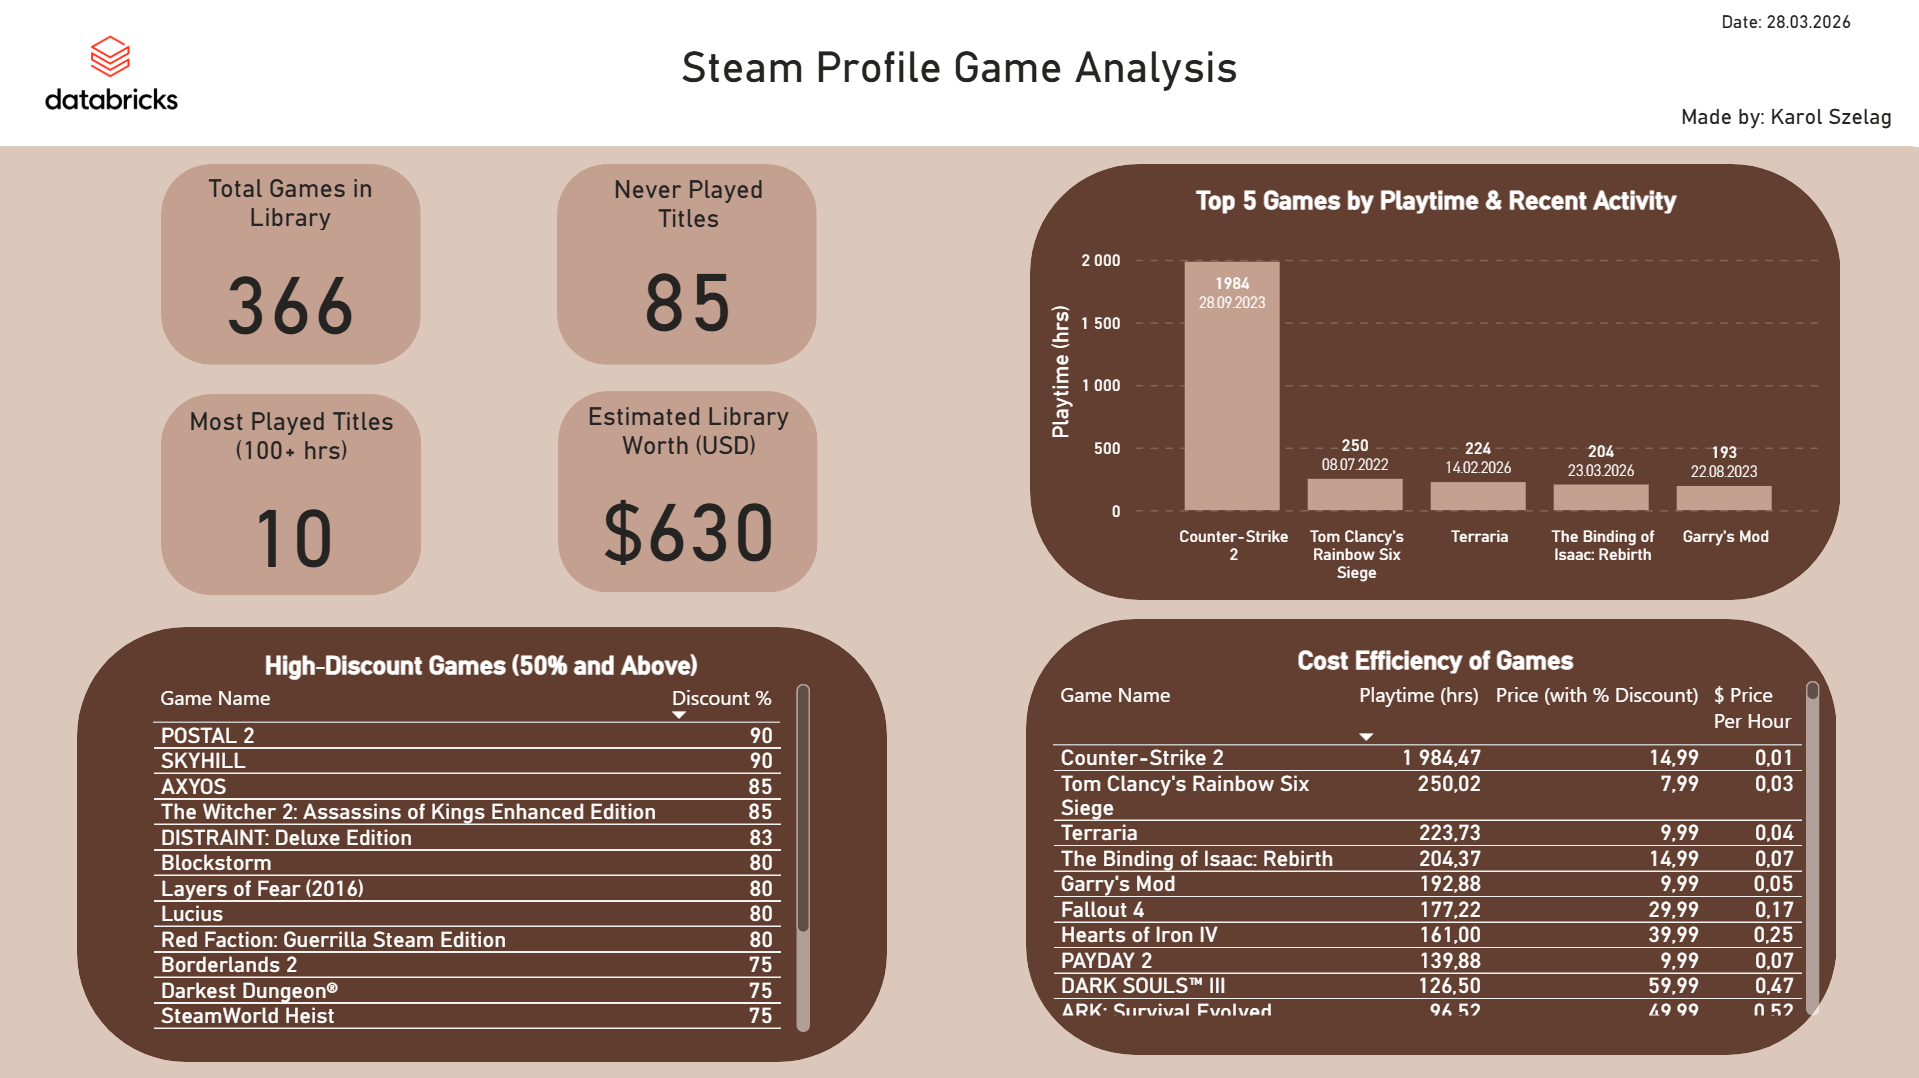

The dashboard page shown, as its layout file describes it:
{"tool":"powerbi","page":{"name":"Page 1","canvas":[1280,720],"ordinal":0},"visuals":[{"type":"shape","box":[0,0,1280,98.2],"z":0},{"type":"image","box":[0,0,150.5,98.2],"z":1000},{"type":"textbox","box":[367.3,23.4,546.1,50.1],"z":2000},{"type":"shape","box":[107.9,263.1,173.6,134.1],"z":2000,"group":"g4"},{"type":"textbox","box":[1103.2,63.7,176.8,34.5],"z":3000},{"type":"group","id":"g1","title":"Group 1","box":[372.3,109.8,173.4,133.9],"z":4000},{"type":"shape","box":[107.9,109.8,173.4,133.9],"z":4500,"group":"g2"},{"type":"group","id":"g2","title":"Group 2","box":[107.9,109.8,173.5,133.8],"z":5000},{"type":"shape","box":[687.4,109.8,540.5,290.6],"z":5000,"group":"g6"},{"type":"shape","box":[684.6,413.6,540.5,290.6],"z":5000,"group":"g8"},{"type":"textbox","box":[1103.5,0,176.5,34.5],"z":6000},{"type":"card","title":"Total Games in Library","fields":{"Values":["Count(gold_df.name)"]},"box":[118.5,115.6,151.2,125.2],"z":6000,"group":"g2"},{"type":"clusteredColumnChart","title":"Top 5 Games by Playtime & Recent Activity","fields":{"Y":["Sum(gold_df.playtime_total (hrs))"],"Category":["gold_df.name"]},"box":[694.8,123.5,527.2,271.7],"z":6000,"group":"g6"},{"type":"tableEx","title":"Cost Efficiency of Games","fields":{"Values":["gold_df.name","gold_df.playtime_total (hrs)","gold_df.price_final","gold_df.Price Per Hour"]},"box":[696.3,431.1,522.4,252.1],"z":6000,"group":"g8"},{"type":"shape","box":[372.3,109.8,173.4,133.9],"z":6500,"group":"g1"},{"type":"shape","box":[52,418.4,540,290],"z":6500,"group":"g5"},{"type":"card","title":"Never Played Titles","fields":{"Values":["Count(gold_df.name)"]},"box":[385.3,116.3,150.1,119.6],"z":7000,"group":"g1"},{"type":"group","id":"g3","title":"Group 3","box":[373,261.2,173.2,134.4],"z":7000},{"type":"tableEx","title":"High‑Discount Games (50% and Above)","fields":{"Values":["gold_df.name","gold_df.discount_percent"]},"box":[96.8,432.5,449.3,260.8],"z":7000,"group":"g5"},{"type":"group","id":"g4","title":"Group 4","box":[107.9,263.1,173.6,134.1],"z":8000},{"type":"card","title":"Most Played Titles (100+ hrs)","fields":{"Values":["Count(gold_df.name)"]},"box":[119.7,270.8,150.1,124.1],"z":8000,"group":"g4"},{"type":"shape","box":[373,261.2,173.2,134.4],"z":9000,"group":"g3"},{"type":"group","id":"g5","title":"Group 5","box":[52,418.4,540,290],"z":9000},{"type":"group","id":"g6","title":"Group 6","box":[687.4,109.8,540.6,291.1],"z":10000},{"type":"card","title":"Estimated Library Worth (USD)","fields":{"Values":["gold_df.Total Library Value"]},"box":[384.7,267.6,150.1,123.5],"z":10000,"group":"g3"},{"type":"group","id":"g7","title":"Group 6","box":[684.6,413.6,540.6,290.4],"z":11000},{"type":"group","id":"g8","title":"Group 7","box":[684.6,413.6,540.6,290.4],"z":11001,"group":"g7"}]}

Visuals, with their boxes in screenshot pixels (x1, y1, x2, y2), scaled from the page's 1280x720 canvas onto the 1919x1078 screenshot:
shape: locate(0, 0, 1918, 147)
image: locate(0, 0, 226, 147)
textbox: locate(551, 35, 1369, 110)
shape: locate(162, 394, 422, 595)
textbox: locate(1654, 95, 1918, 147)
"Group 1" group: locate(558, 164, 818, 365)
shape: locate(162, 164, 422, 365)
"Group 2" group: locate(162, 164, 422, 365)
shape: locate(1031, 164, 1841, 599)
shape: locate(1026, 619, 1837, 1054)
textbox: locate(1654, 0, 1918, 52)
"Total Games in Library" card: locate(178, 173, 404, 361)
"Top 5 Games by Playtime & Recent Activity" clusteredColumnChart: locate(1042, 185, 1832, 592)
"Cost Efficiency of Games" tableEx: locate(1044, 645, 1827, 1023)
shape: locate(558, 164, 818, 365)
shape: locate(78, 626, 888, 1061)
"Never Played Titles" card: locate(578, 174, 803, 353)
"Group 3" group: locate(559, 391, 819, 592)
"High‑Discount Games (50% and Above)" tableEx: locate(145, 648, 819, 1038)
"Group 4" group: locate(162, 394, 422, 595)
"Most Played Titles (100+ hrs)" card: locate(179, 405, 404, 591)
shape: locate(559, 391, 819, 592)
"Group 5" group: locate(78, 626, 888, 1061)
"Group 6" group: locate(1031, 164, 1841, 600)
"Estimated Library Worth (USD)" card: locate(577, 401, 802, 586)
"Group 6" group: locate(1026, 619, 1837, 1054)
"Group 7" group: locate(1026, 619, 1837, 1054)
